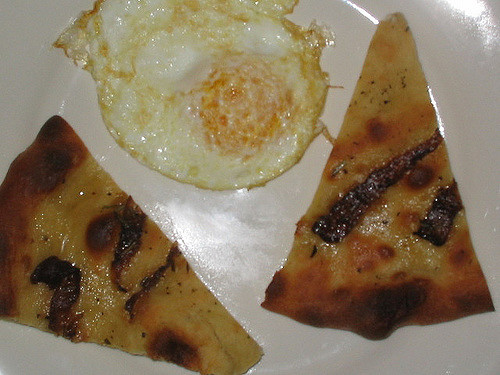fried egg: (71, 1, 314, 166)
